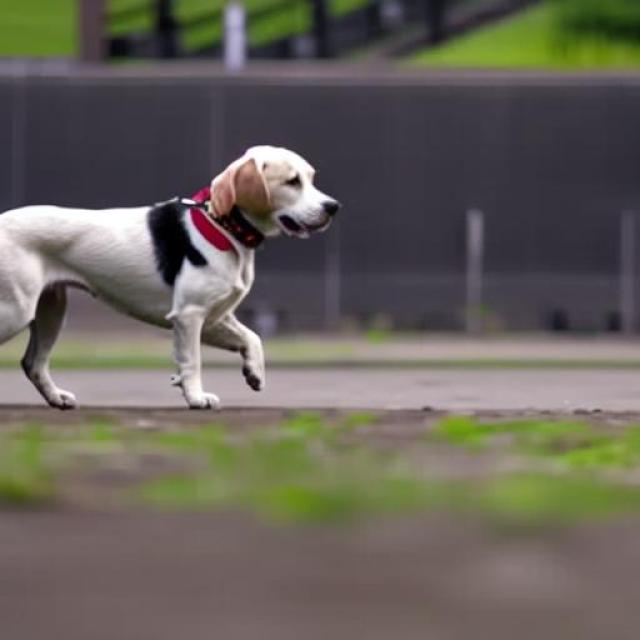Dog: (0, 145, 342, 410)
